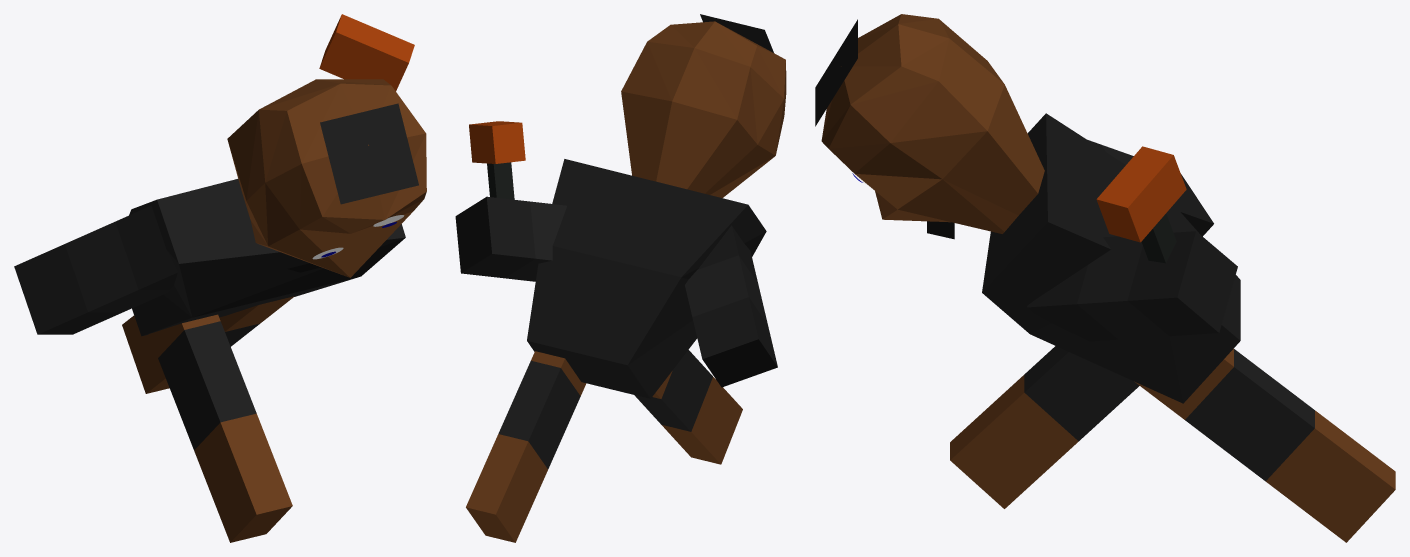
Rendered from servant2f.obj.
3 renders of one model, left to right at view 1: azimuth 30°, elevation 25°; view 2: azimuth 150°, elevation 25°; view 3: azimuth 270°, elevation 25°, orthographic. The views are drawn at different scales.
Parts seen in each view (by area): view 1: Cube, Cube.001, Cube.004, Cube.003, Plane.002, Cube.008, Cube.005; view 2: Cube.001, Cube, Cube.005, Cube.003, Cube.002, Cube.004, Cube.008, Cube.007, Plane.002; view 3: Cube, Cube.001, Cube.005, Cube.002, Cube.004, Cube.008, Plane.002, Cube.003, Cube.007.
Boxes of the visible parts, box(x1,y1,x2,y2) form: Cube: box(227, 79, 426, 277); Cube.001: box(129, 179, 405, 336); Cube.004: box(148, 314, 292, 542); Cube.003: box(14, 205, 177, 334); Plane.002: box(320, 103, 418, 204); Cube.008: box(319, 14, 414, 91); Cube.005: box(122, 296, 294, 393); Cube.001: box(527, 159, 766, 398); Cube: box(621, 21, 786, 197); Cube.005: box(466, 351, 586, 542); Cube.003: box(685, 225, 777, 387); Cube.002: box(455, 196, 566, 281); Cube.004: box(634, 350, 742, 464); Cube.008: box(469, 121, 525, 163); Cube.007: box(487, 162, 514, 199); Plane.002: box(700, 14, 773, 52); Cube: box(821, 14, 1044, 233); Cube.001: box(982, 113, 1240, 403); Cube.005: box(1134, 348, 1395, 542); Cube.002: box(1027, 231, 1237, 341); Cube.004: box(950, 346, 1139, 508); Cube.008: box(1096, 146, 1186, 242); Plane.002: box(815, 19, 857, 126); Cube.003: box(1088, 140, 1213, 236); Cube.007: box(1141, 213, 1176, 263).
Size of the model in its own units: 3.58 by 4.4 by 4.66.
